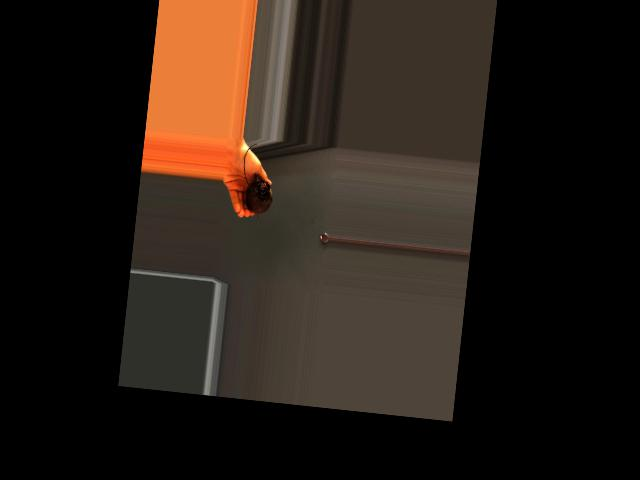beet: (237, 143, 277, 223)
